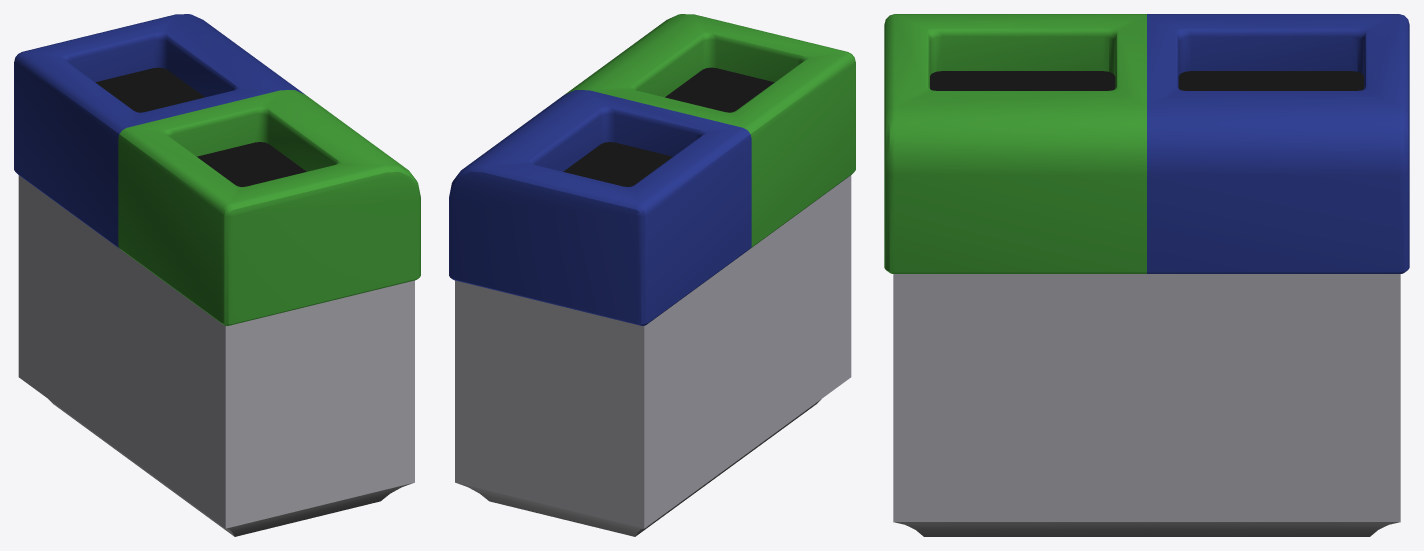
File: airport-trash-can.glb
The picture shows the model from 3 angles, left to right: view 1: azimuth 30°, elevation 25°; view 2: azimuth 150°, elevation 25°; view 3: azimuth 270°, elevation 25°; orthographic projection. The views are drawn at different scales.
Parts seen in each view (by area): view 1: 14.Trashcan_AIRPORT_0; view 2: 14.Trashcan_AIRPORT_0; view 3: 14.Trashcan_AIRPORT_0.
Boxes of the visible parts, bbox=[...] form: 14.Trashcan_AIRPORT_0: bbox=[14, 14, 420, 536]; 14.Trashcan_AIRPORT_0: bbox=[449, 14, 855, 536]; 14.Trashcan_AIRPORT_0: bbox=[884, 14, 1409, 536].
Size of the model in its own units: 0.4224 by 0.7047 by 0.7902.
1 material, 1 textured.
